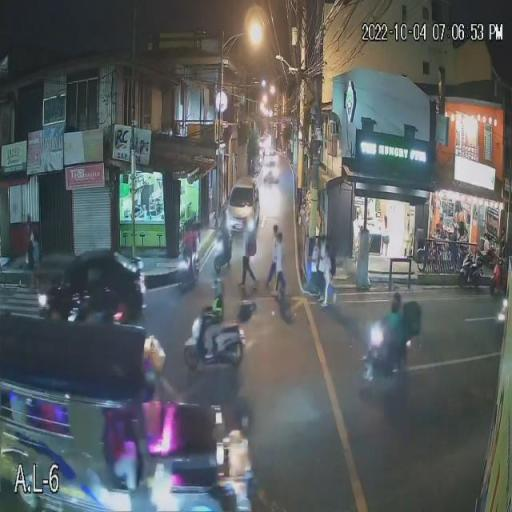helmet: (210, 278, 222, 292), (390, 292, 402, 304)
motorcycle: (183, 280, 250, 374), (362, 300, 423, 390), (459, 245, 492, 295), (176, 240, 202, 294), (270, 271, 294, 323), (488, 257, 506, 298)
rider: (374, 292, 408, 371), (198, 280, 224, 355), (181, 219, 200, 270)
